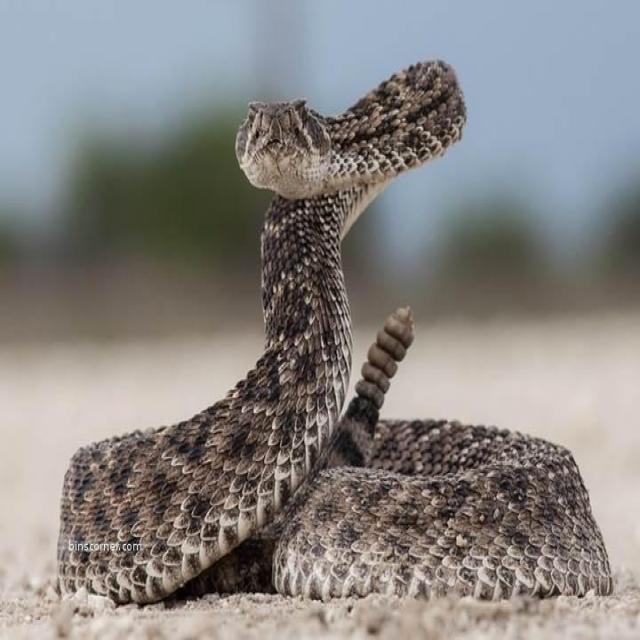Snake: (55, 56, 612, 607)
